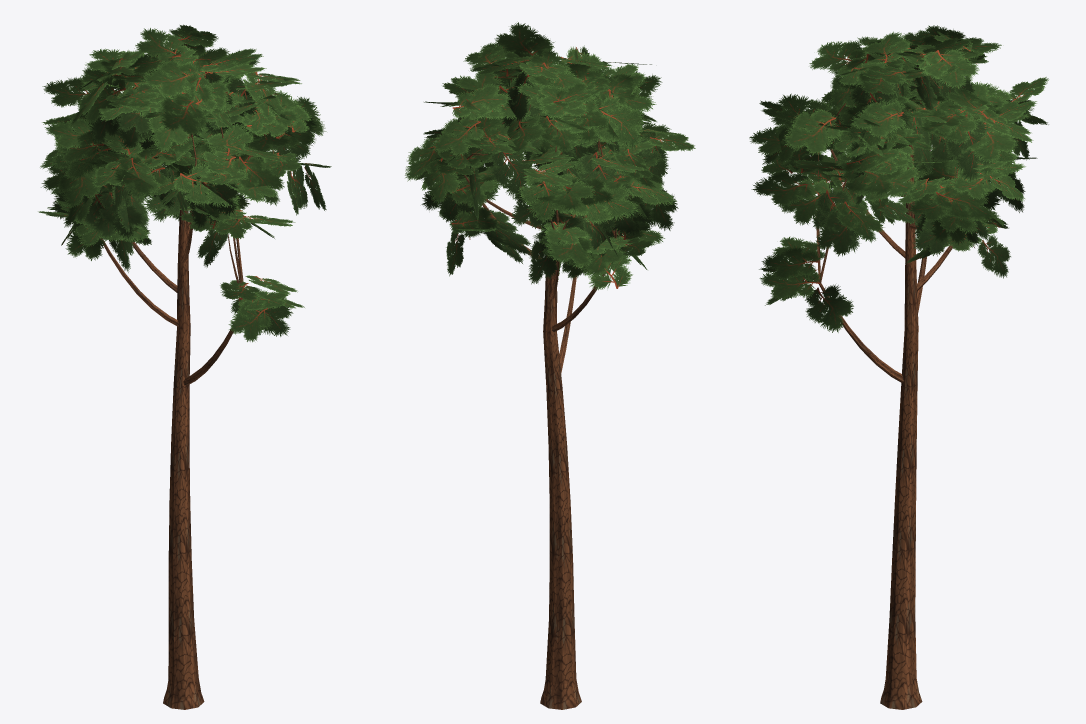
The model's file is tr_pine.glb.
3 views of the same model, side by side, from view 1: azimuth 30°, elevation 25°; view 2: azimuth 150°, elevation 25°; view 3: azimuth 270°, elevation 25° (orthographic).
Visible parts, largest first — view 1: tr_pine; view 2: tr_pine; view 3: tr_pine.
Part boxes in pixels (x1,y1,x2,y2): tr_pine: (38, 24, 331, 709); tr_pine: (405, 22, 695, 709); tr_pine: (749, 25, 1048, 709).
Bounding box in the file's own units: 5.9 × 12.71 × 5.83.
2 materials, 2 textured.
